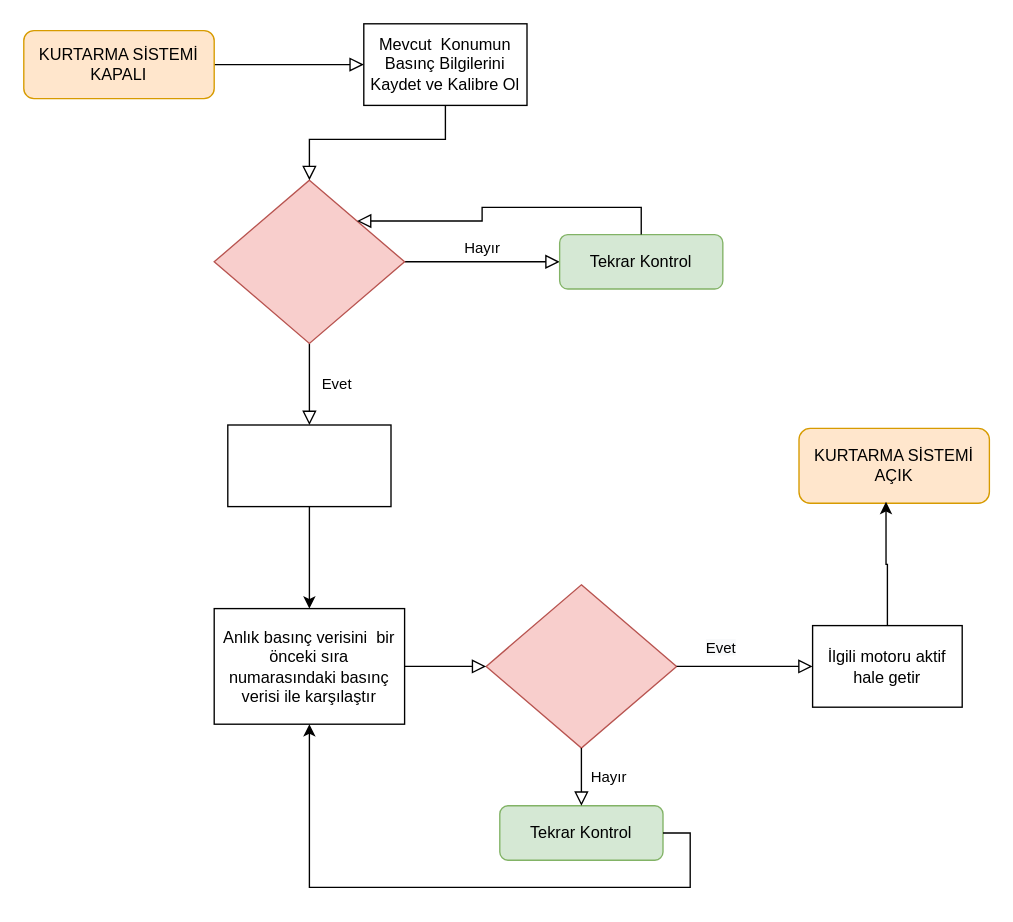
Image size: 1013x922. Some labels were removed from this diagram. Each missing label, with the centre of its shape:
Basınç Artıyor Mu?: the point at 581,665
Basınç Azalıyor Mu?: the point at 309,261
Basınç verilerini SD karta sıra numarası ile kaydet: the point at 308,465
